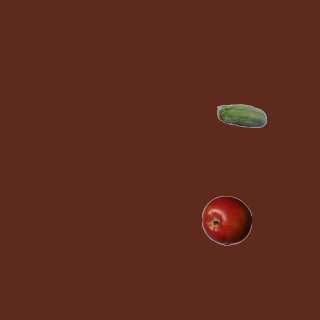Apple Braeburn: (201, 195, 251, 245)
Corn Husk: (216, 92, 266, 142)
